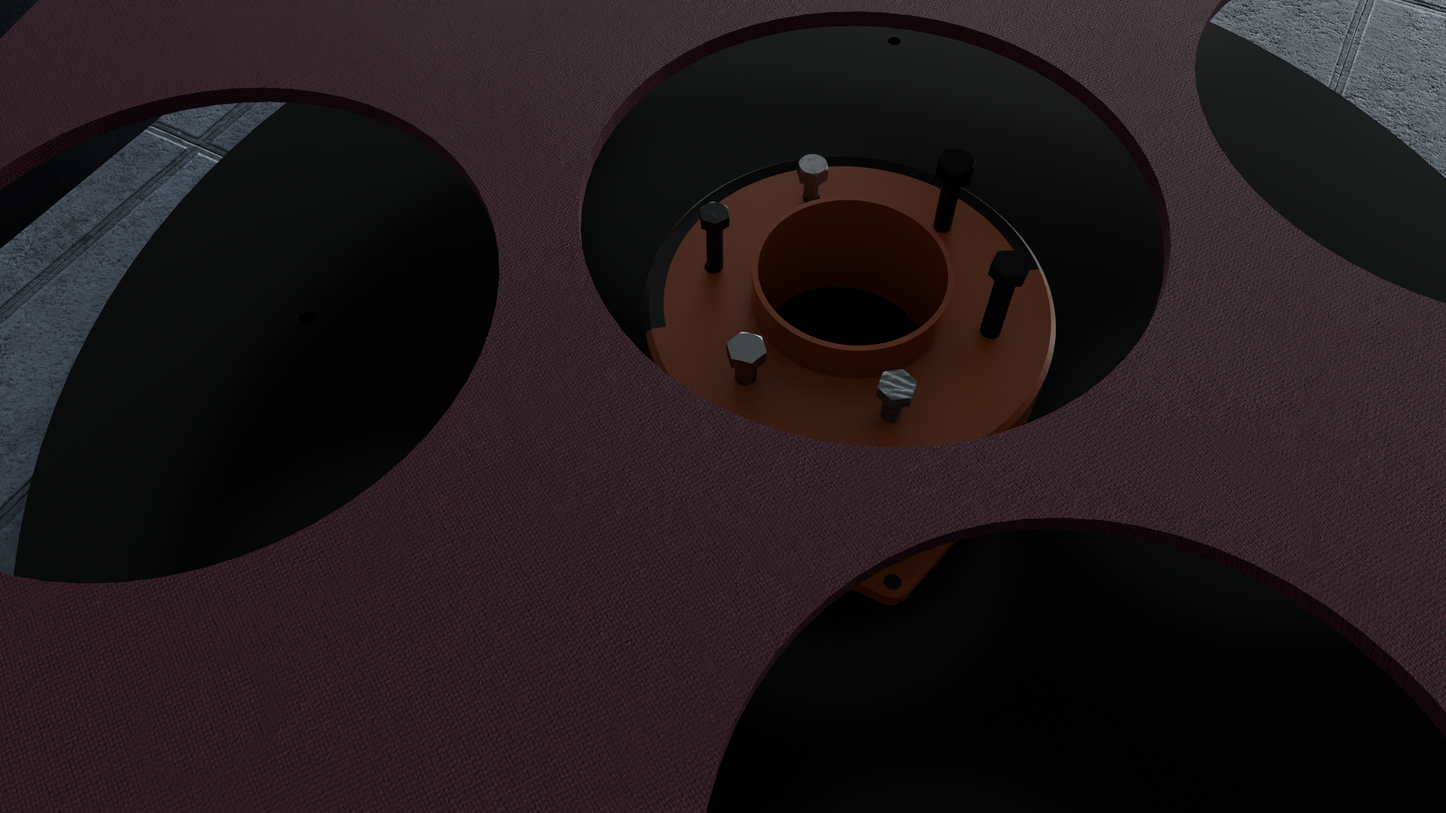bolt: (727, 332, 767, 364), (877, 370, 917, 400), (937, 149, 975, 178), (991, 251, 1031, 278), (798, 154, 828, 178), (700, 202, 730, 225)
